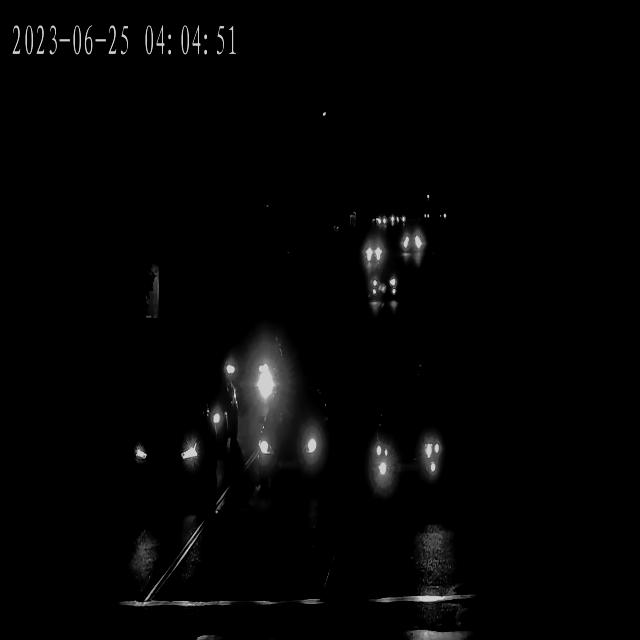Car: (119, 394, 228, 497), (368, 386, 446, 492), (256, 389, 325, 494), (221, 326, 284, 416), (367, 272, 399, 301), (398, 230, 423, 256), (401, 228, 425, 254), (361, 238, 385, 262), (368, 214, 386, 228), (371, 215, 388, 229), (392, 214, 406, 226)
